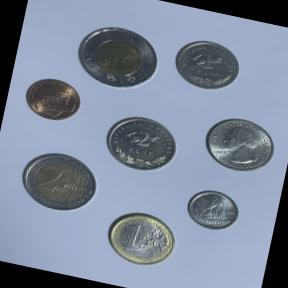coin: (68, 12, 171, 100), (9, 141, 105, 223), (196, 107, 282, 184), (96, 106, 185, 180), (98, 202, 185, 275), (16, 70, 88, 130), (178, 181, 246, 238)
